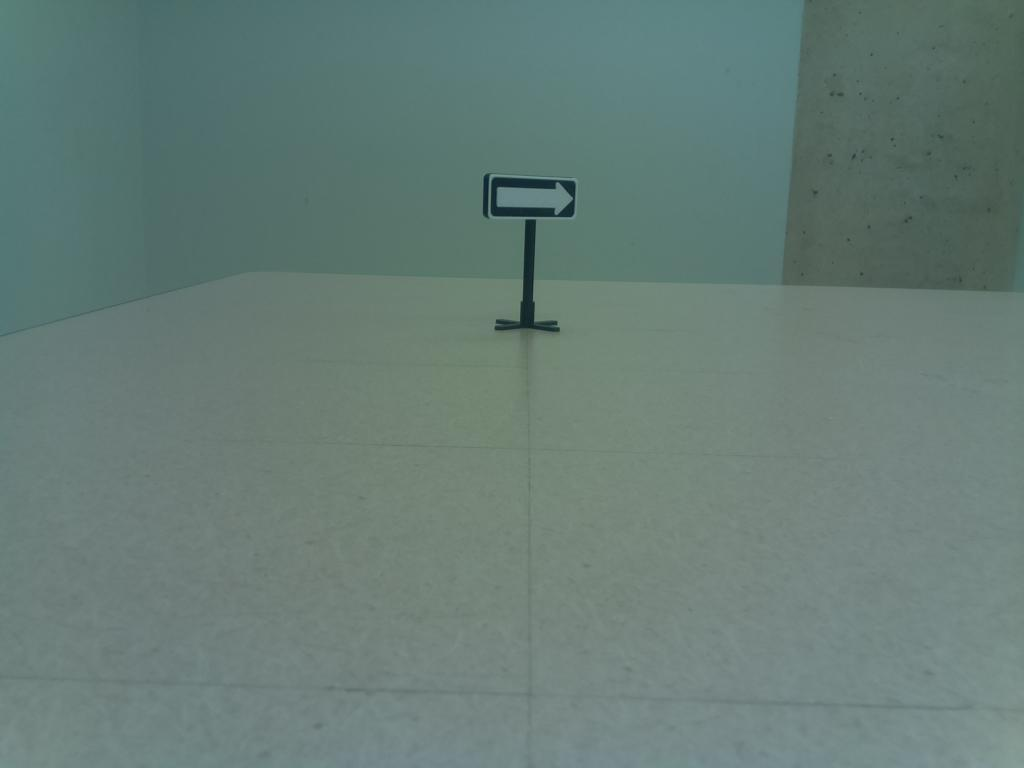sign_oneway_right: (479, 169, 583, 226)
